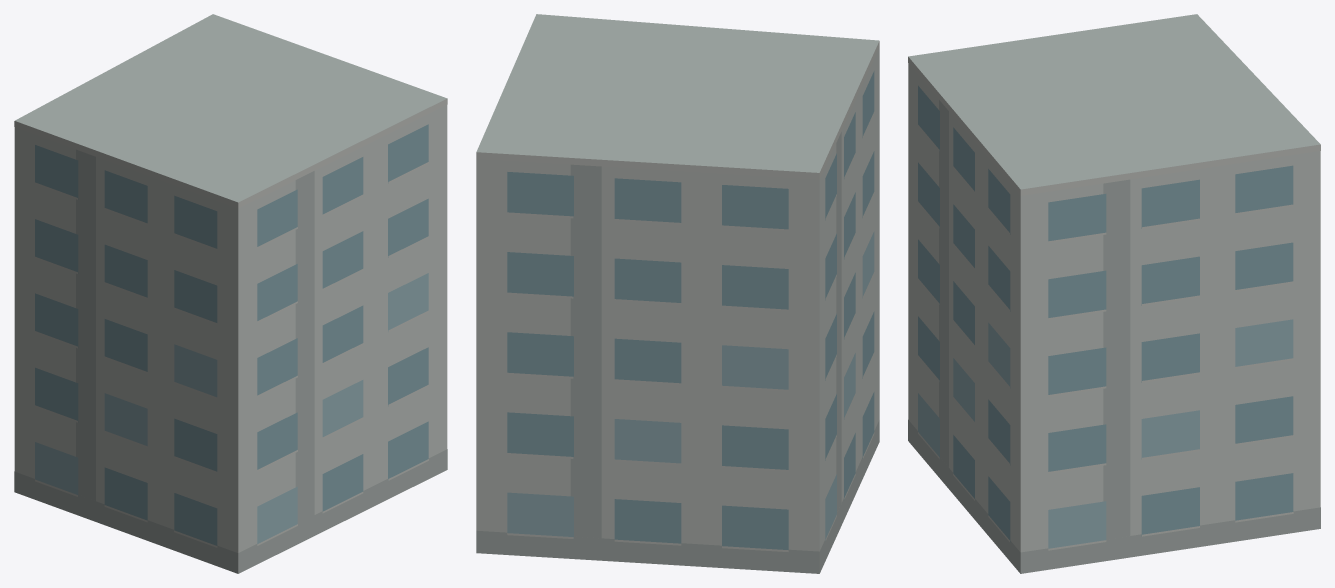
Rendered from survey-upis-32864011.glb.
3 renders of one model, left to right at view 1: azimuth 30°, elevation 25°; view 2: azimuth 150°, elevation 25°; view 3: azimuth 270°, elevation 25°, orthographic. The views are drawn at different scales.
Parts seen in each view (by area): view 1: survey-upis-32864011.tmp; view 2: survey-upis-32864011.tmp; view 3: survey-upis-32864011.tmp.
Boxes of the visible parts, x1=… form: survey-upis-32864011.tmp: x1=14, y1=14, x2=447, y2=573; survey-upis-32864011.tmp: x1=476, y1=14, x2=879, y2=573; survey-upis-32864011.tmp: x1=908, y1=14, x2=1320, y2=573.
Bounding box in the file's own units: 14.21 × 14.5 × 14.12.
